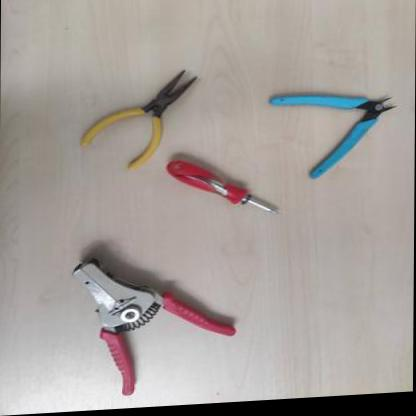Screwdriverrotation: (163, 154, 284, 225)
